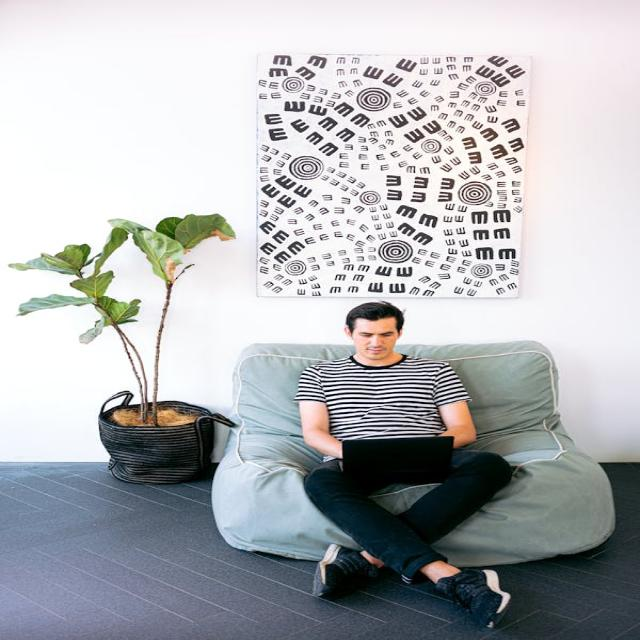Real human 2: (292, 290, 532, 636)
